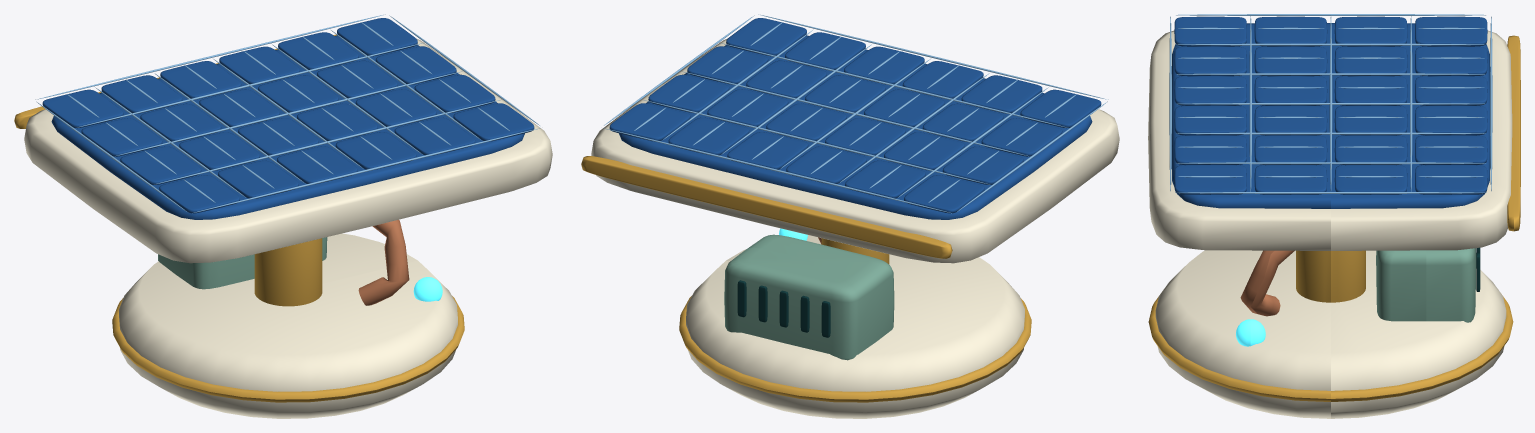
The model's file is solar.glb.
The picture shows the model from 3 angles, left to right: view 1: azimuth 30°, elevation 25°; view 2: azimuth 150°, elevation 25°; view 3: azimuth 270°, elevation 25°; orthographic projection. The views are drawn at different scales.
Visible parts, largest first — view 1: panel-pivot, solar, status-light; view 2: panel-pivot, solar; view 3: panel-pivot, solar, status-light.
Boxes of the visible parts, x1,y1,x2,y2 form: panel-pivot: [14, 14, 552, 263]; solar: [112, 219, 464, 418]; status-light: [413, 277, 442, 301]; panel-pivot: [581, 14, 1119, 263]; solar: [679, 234, 1031, 418]; panel-pivot: [1148, 14, 1520, 250]; solar: [1148, 247, 1513, 418]; status-light: [1236, 319, 1265, 346].
Size of the model in its own units: 0.94 by 0.559 by 0.744.
